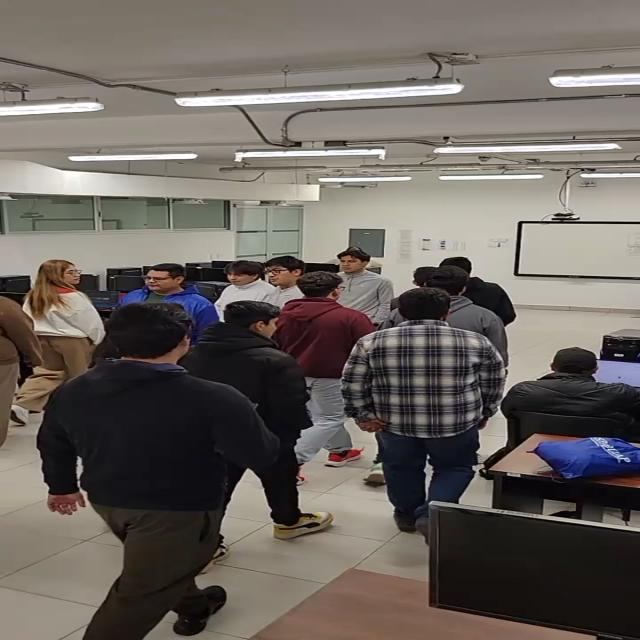Persona: (52, 301, 261, 640), (350, 286, 510, 540), (188, 299, 334, 541), (273, 269, 369, 483), (16, 252, 89, 397)
